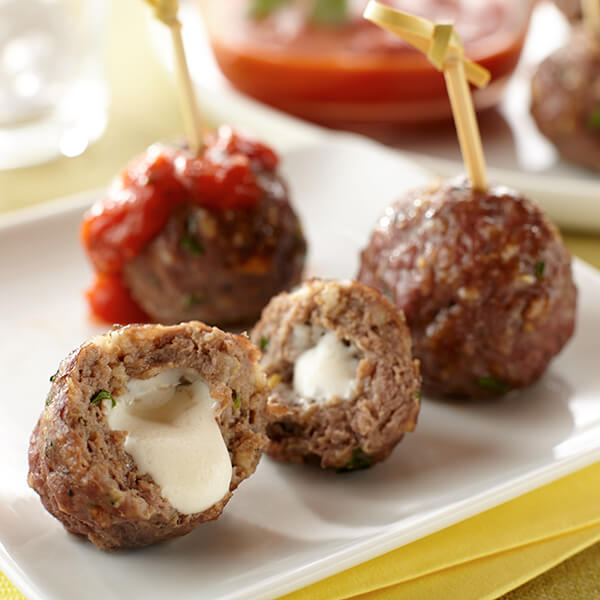meatballs: (37, 143, 557, 544), (26, 321, 270, 550), (350, 186, 591, 409), (77, 135, 316, 332), (249, 285, 428, 477)
